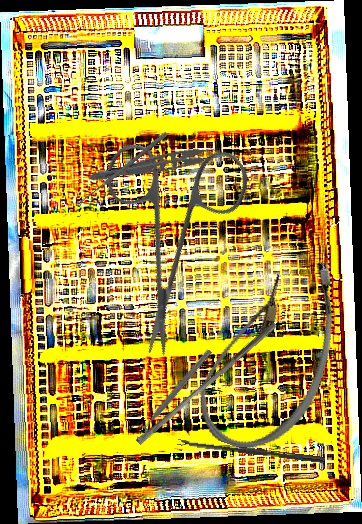Cannula: (188, 238, 356, 466)
Fixation Ring: (127, 342, 215, 443)
Iris Scissors: (39, 95, 305, 362)
Pusher: (135, 316, 278, 450)
Surgical Spoon: (75, 131, 168, 208), (177, 438, 324, 463)
Tissue Forceps: (87, 140, 227, 194)
